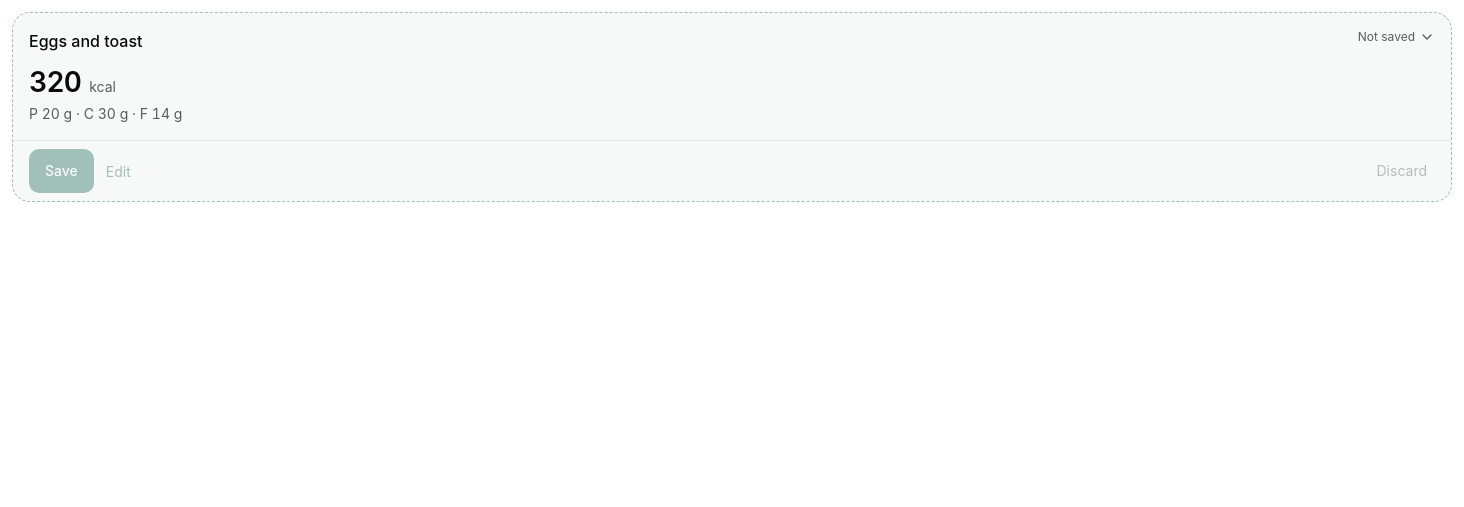
Test: renders the usda source without turning non-URLs into links
Click the button with aria-label "Expand Eggs and toast": (732, 76) [13,13,1451,140]
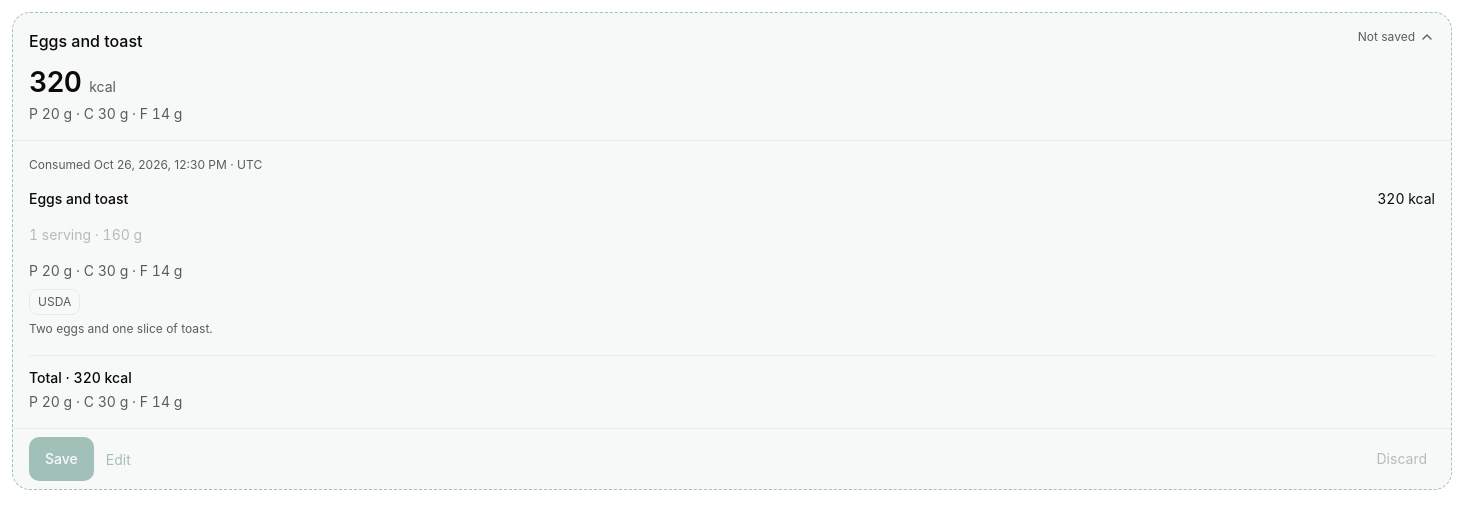
Now the text "USDA" is shown, box [29,289,80,315]
